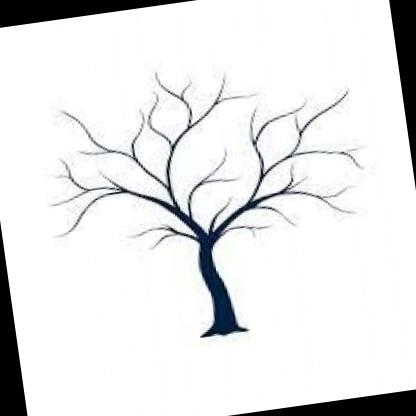trunk_reflex: (191, 248, 235, 320)
